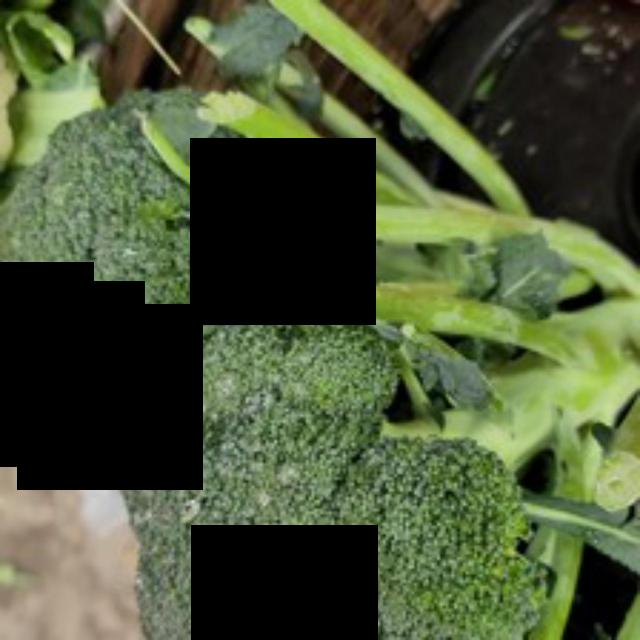broccoli: (108, 280, 562, 637)
